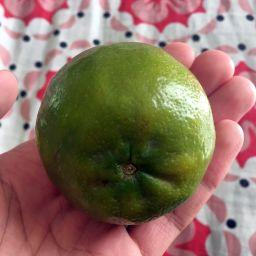Unripe: (36, 40, 216, 226)
